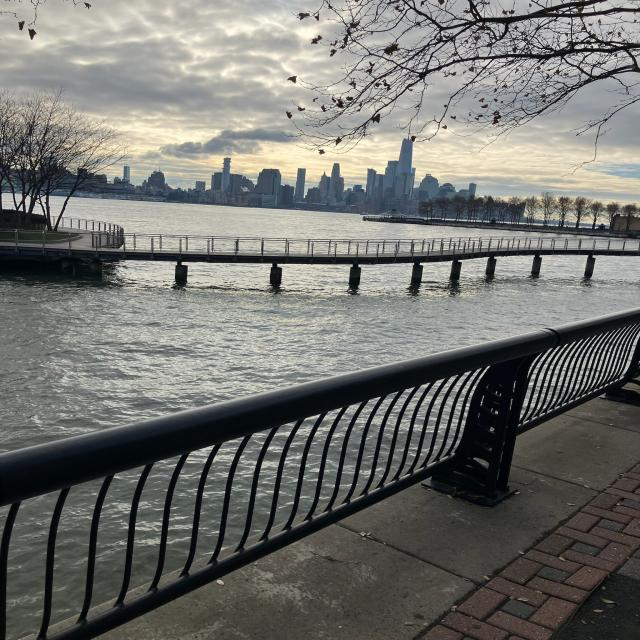WTC: (397, 117, 418, 173)
